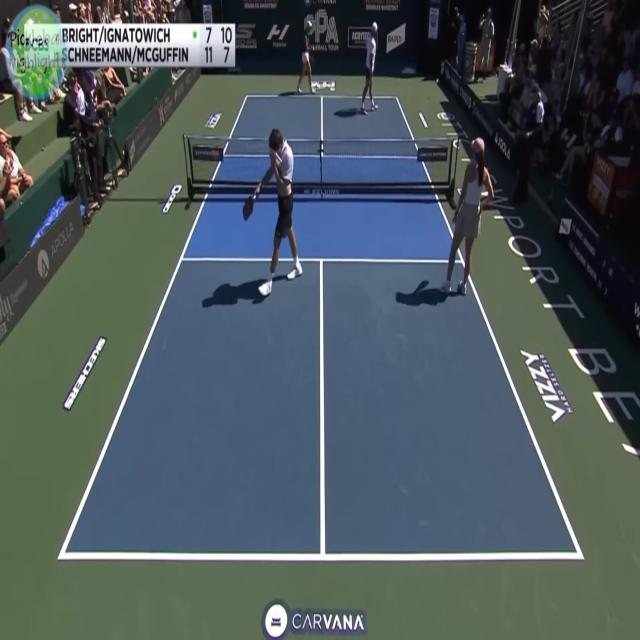ball: (434, 72, 443, 89)
